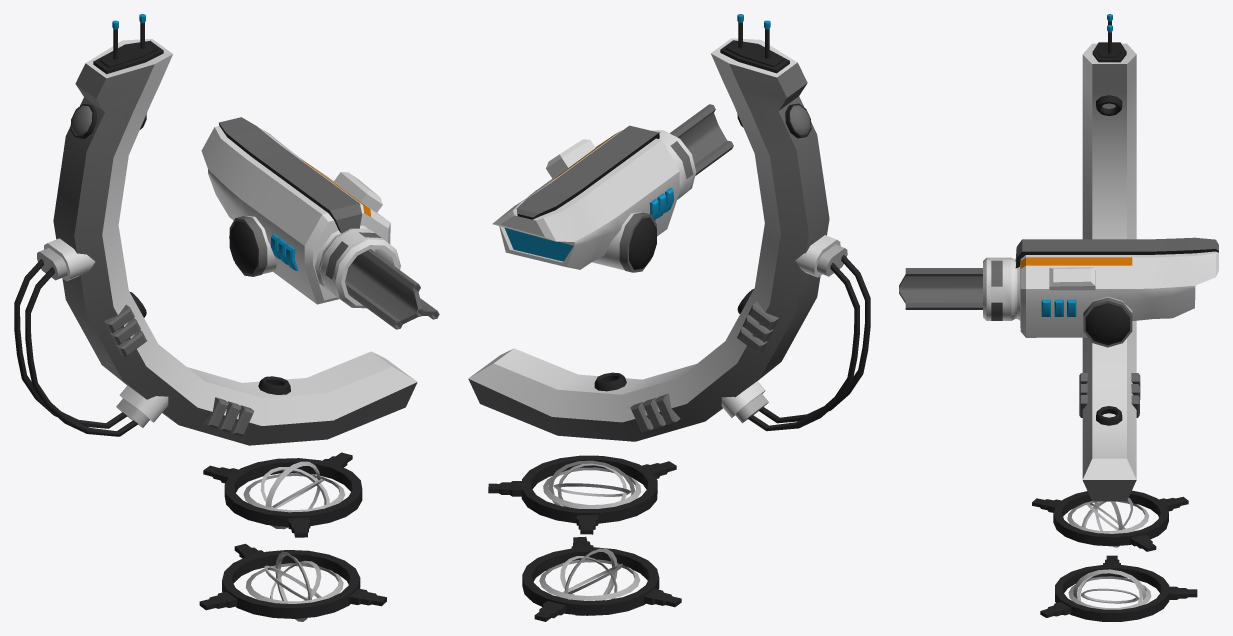
Rendered from tower_gatling_asset.fbx.
3 views of the same model, side by side, from view 1: azimuth 30°, elevation 25°; view 2: azimuth 150°, elevation 25°; view 3: azimuth 270°, elevation 25° (orthographic). The views are drawn at different scales.
Visible parts, largest first — view 1: gatling_top, gatling_bottom, gatling_spinner; view 2: gatling_top, gatling_bottom, gatling_spinner; view 3: gatling_top, gatling_bottom, gatling_spinner.
Part boxes in pixels (box(x1,y1,x2,y2)): gatling_top: box(14, 14, 417, 445); gatling_bottom: box(199, 452, 386, 621); gatling_spinner: box(345, 249, 439, 329); gatling_top: box(468, 14, 870, 441); gatling_bottom: box(488, 455, 681, 621); gatling_spinner: box(670, 104, 733, 175); gatling_top: box(983, 14, 1218, 501); gatling_bottom: box(1032, 490, 1197, 621); gatling_spinner: box(899, 268, 982, 309).
Bounding box in the file's own units: 133 × 213 × 116.
